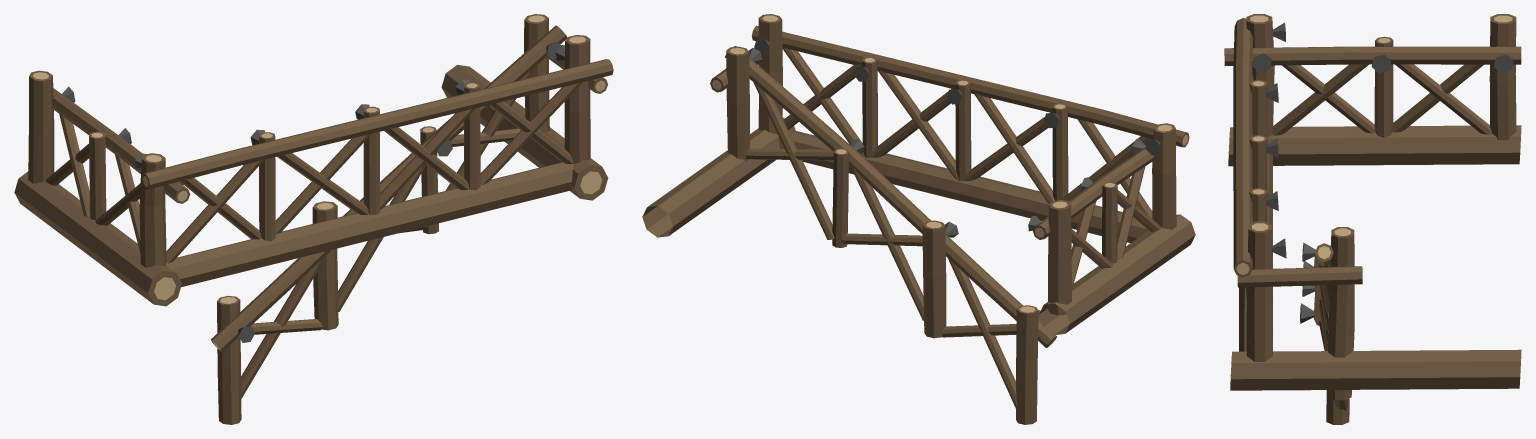
The model's file is rpgpp_ag_stairs_interior_02a_3m_handrail_01.fbx.
3 renders of one model, left to right at view 1: azimuth 30°, elevation 25°; view 2: azimuth 150°, elevation 25°; view 3: azimuth 270°, elevation 25°, orthographic. The views are drawn at different scales.
Parts seen in each view (by area): view 1: rpgpp_ag_stairs_interior_02a_3m_handrail_01; view 2: rpgpp_ag_stairs_interior_02a_3m_handrail_01; view 3: rpgpp_ag_stairs_interior_02a_3m_handrail_01.
Boxes of the visible parts, x1=… form: rpgpp_ag_stairs_interior_02a_3m_handrail_01: x1=14, y1=14, x2=613, y2=424; rpgpp_ag_stairs_interior_02a_3m_handrail_01: x1=642, y1=14, x2=1195, y2=424; rpgpp_ag_stairs_interior_02a_3m_handrail_01: x1=1224, y1=14, x2=1521, y2=424.
Size of the model in its own units: 6.63 by 4.48 by 3.37.
